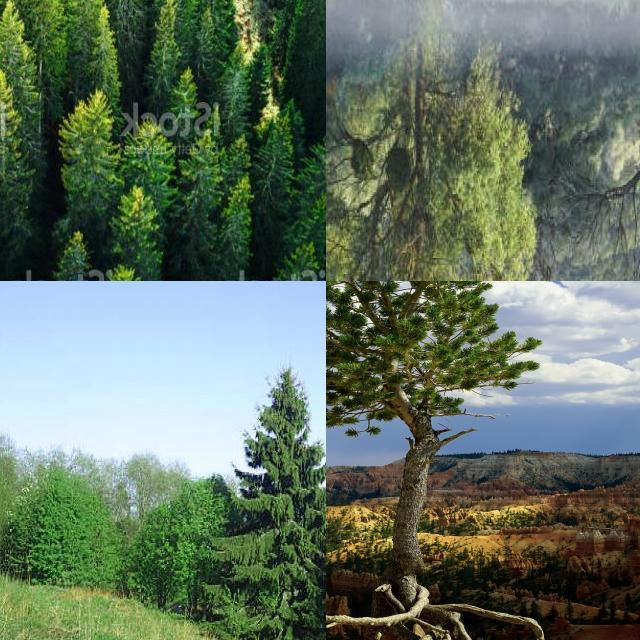tree: (326, 18, 542, 282), (327, 281, 526, 461), (226, 348, 326, 640), (6, 467, 106, 589), (126, 482, 220, 610), (570, 130, 640, 282), (0, 1, 38, 248), (59, 90, 118, 232), (0, 0, 44, 168), (286, 113, 326, 281), (109, 171, 168, 281), (176, 129, 217, 281), (251, 84, 293, 226), (122, 112, 176, 220), (184, 0, 232, 118), (0, 0, 38, 136), (0, 77, 28, 249), (1, 0, 52, 92), (64, 0, 108, 100), (0, 0, 32, 136), (0, 0, 28, 148), (110, 0, 150, 100), (286, 0, 326, 100), (197, 0, 236, 100), (52, 1, 96, 88), (146, 0, 182, 106), (216, 175, 252, 281), (0, 212, 54, 280), (152, 0, 192, 74), (166, 65, 202, 147), (0, 120, 20, 252), (234, 0, 266, 70), (51, 228, 94, 280), (148, 0, 186, 52), (270, 0, 302, 60), (1, 236, 44, 280), (134, 0, 174, 36), (1, 0, 20, 68), (302, 0, 326, 46), (91, 261, 145, 281), (286, 0, 310, 34), (268, 1, 290, 32), (306, 1, 322, 32)
